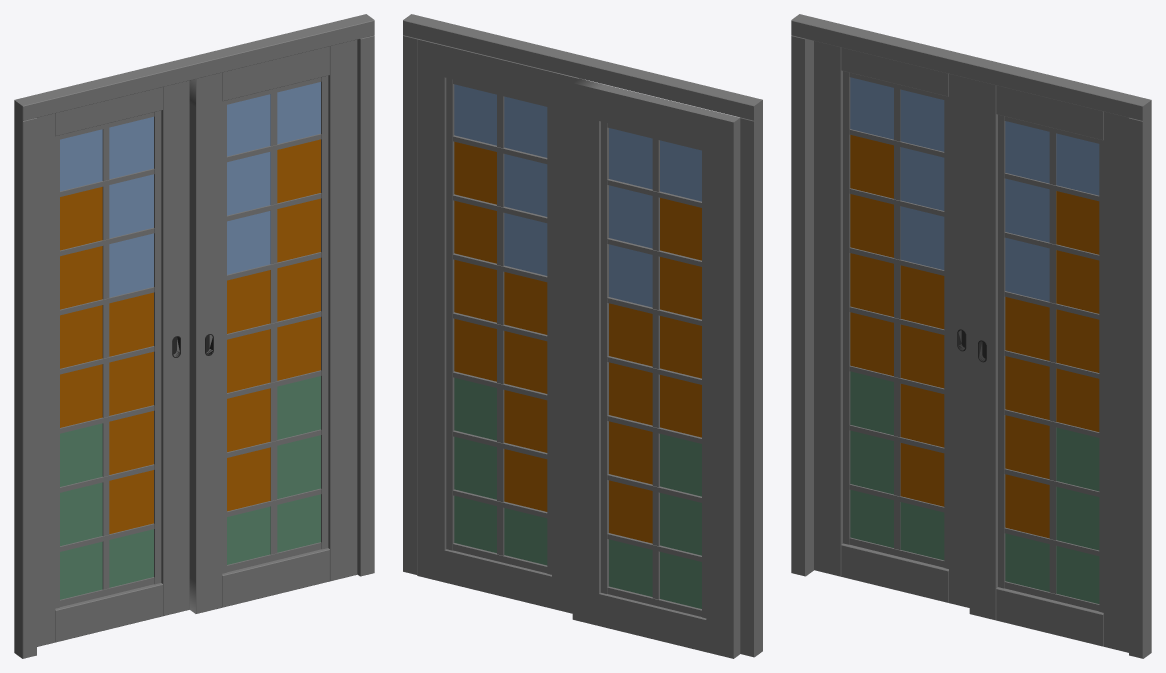
3 renders of one model, left to right at view 1: azimuth 30°, elevation 25°; view 2: azimuth 150°, elevation 25°; view 3: azimuth 330°, elevation 25°, orthographic.
Visible parts, largest first — view 1: Collapse_Doo_Mod_037; view 2: Collapse_Doo_Mod_037; view 3: Collapse_Doo_Mod_037.
Boxes of the visible parts, bbox=[...] form: Collapse_Doo_Mod_037: bbox=[14, 14, 374, 658]; Collapse_Doo_Mod_037: bbox=[403, 14, 762, 658]; Collapse_Doo_Mod_037: bbox=[791, 14, 1151, 658].
Bounding box in the file's own units: 66.93 × 100 × 5.05.
